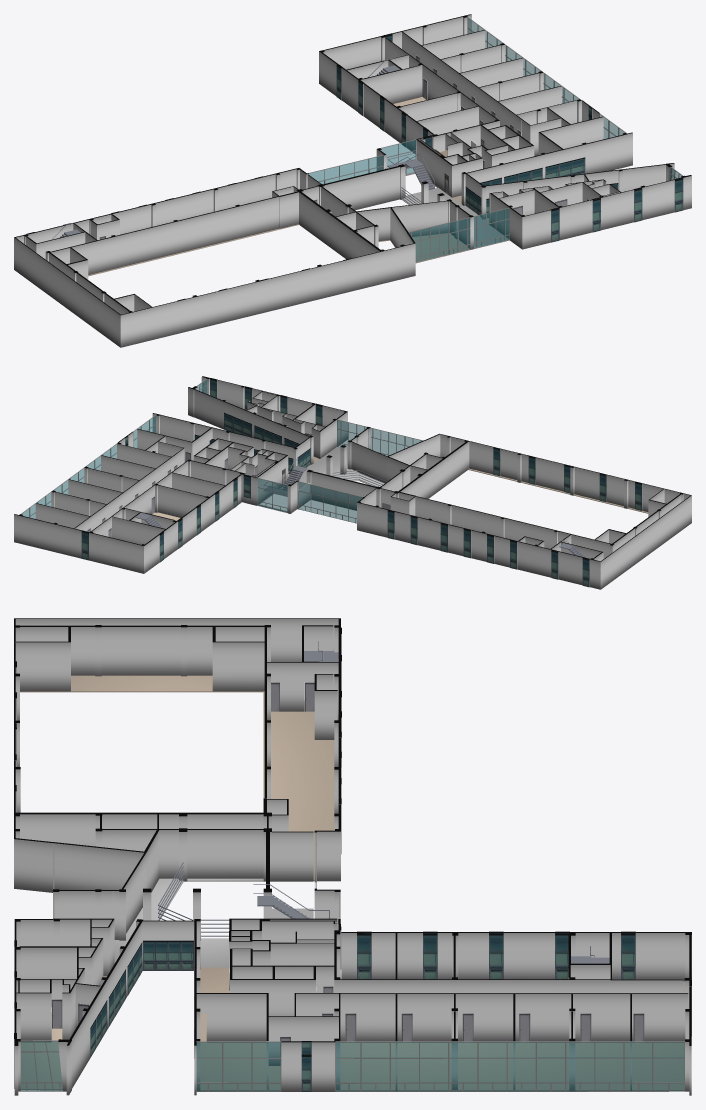
Rendered from soulbrain_T9-1-3F.glb.
The picture shows the model from 3 angles, top to bottom: view 1: azimuth 30°, elevation 25°; view 2: azimuth 150°, elevation 25°; view 3: azimuth 270°, elevation 25°; orthographic projection. The views are drawn at different scales.
Visible parts, largest first — view 1: Box1158, Box1195, Shape001, T-9-1-3F, Box1337, StraightStair026; view 2: Box1158, Box1195, T-9-1-3F, Shape001, Box1337, StraightStair026; view 3: Box1158, Box1195, Shape001, Box1337, T-9-1-3F, Line029.
Part boxes in pixels (x1,y1,x2,y2): Box1158: (14,14,691,347); Box1195: (26,17,683,300); Shape001: (88,96,489,276); T-9-1-3F: (401,172,509,248); Box1337: (99,55,588,239); StraightStair026: (387,152,434,189); Box1158: (14,376,691,589); Box1195: (20,378,642,587); T-9-1-3F: (258,447,384,512); Shape001: (152,456,648,520); Box1337: (87,422,390,537); StraightStair026: (263,458,308,496); Box1158: (14,618,691,1095); Box1195: (14,627,691,1091); Shape001: (20,675,684,1091); Box1337: (51,682,644,1065); T-9-1-3F: (114,878,263,967); Line029: (158,862,229,936).
Bounding box in the file's own units: 82.74 × 5.55 × 55.45.
Materials: 14 (9 with a texture image).
